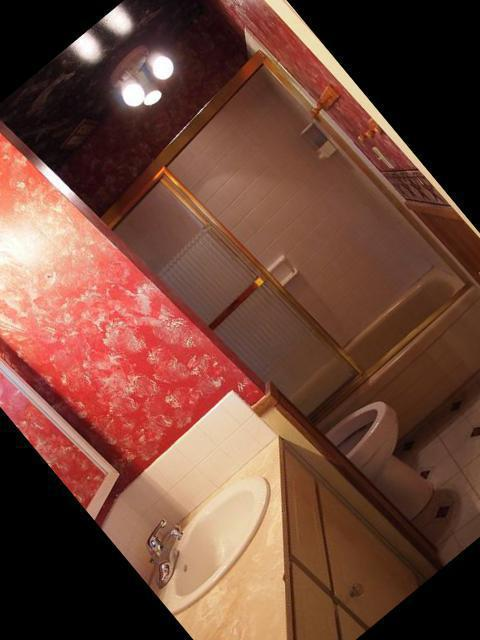Lavamanos: (117, 440, 311, 625)
Sanitario: (250, 386, 452, 582)
